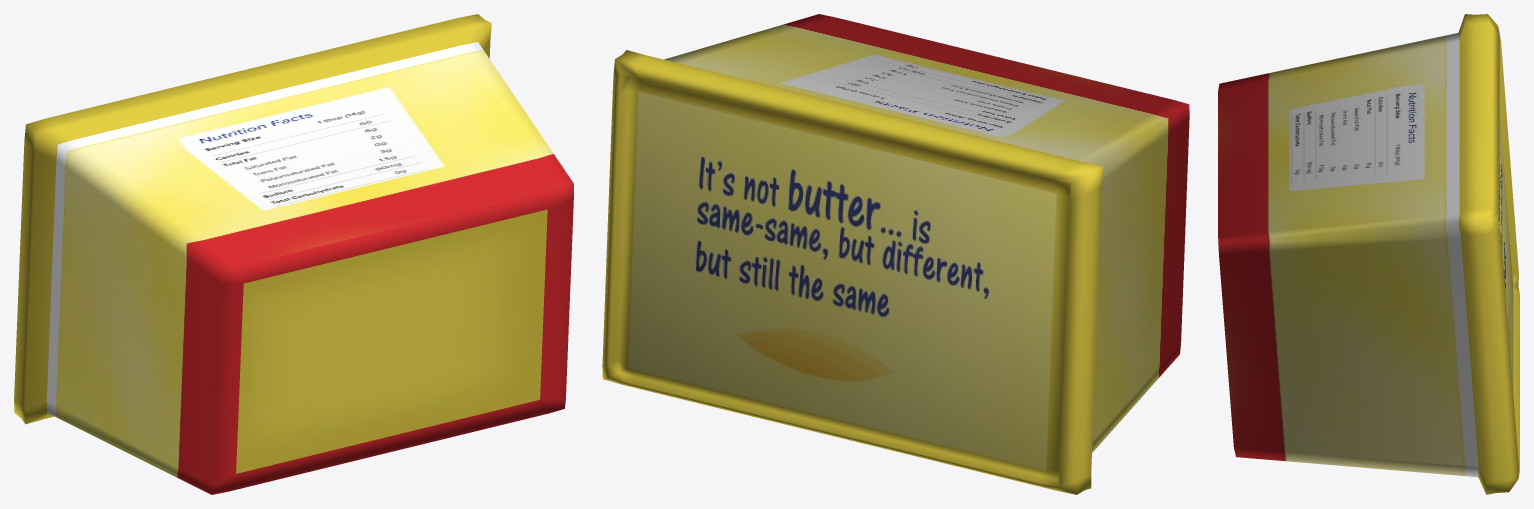
File: margarina.glb
3 views of the same model, side by side, from view 1: azimuth 30°, elevation 25°; view 2: azimuth 150°, elevation 25°; view 3: azimuth 270°, elevation 25° (orthographic). The views are drawn at different scales.
Parts seen in each view (by area): view 1: margarina; view 2: margarina; view 3: margarina.
Part boxes in pixels (bbox=[...]): margarina: bbox=[14, 14, 573, 494]; margarina: bbox=[602, 14, 1189, 494]; margarina: bbox=[1218, 14, 1519, 494].
Bounding box in the file's own units: 0.2978 × 0.1872 × 0.1852.
1 material, 1 textured.
